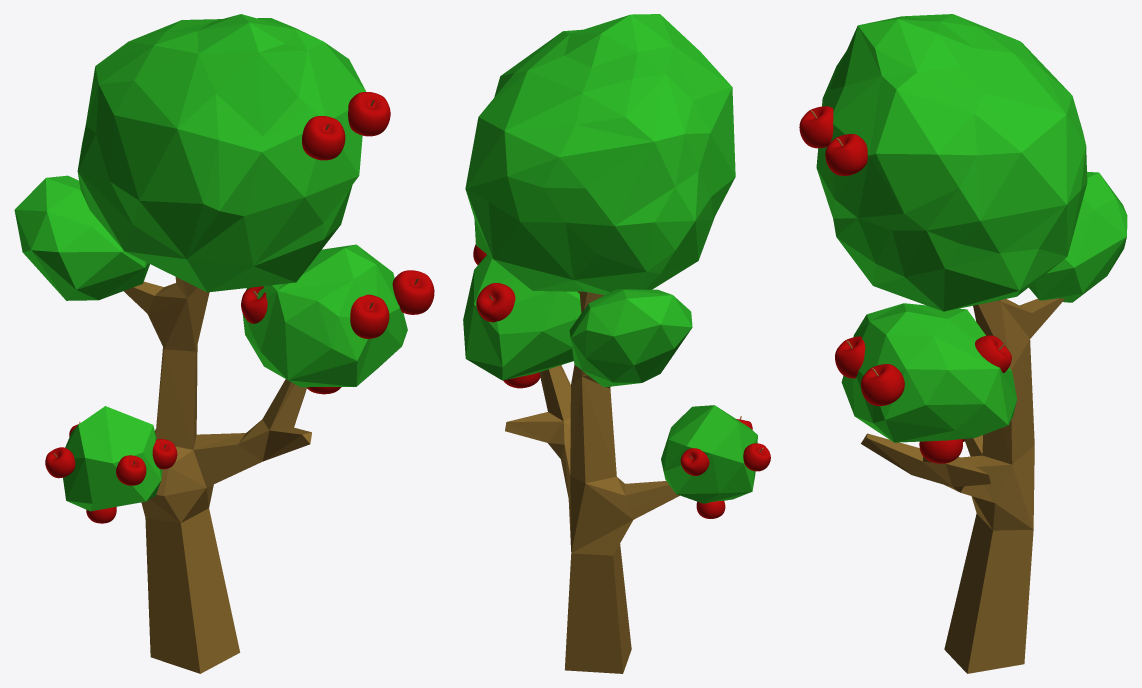
Rendered from arbol_de_manzana.glb.
3 renders of one model, left to right at view 1: azimuth 30°, elevation 25°; view 2: azimuth 150°, elevation 25°; view 3: azimuth 270°, elevation 25°, orthographic. The views are drawn at different scales.
Parts seen in each view (by area): view 1: pCylinder45; view 2: pCylinder45; view 3: pCylinder45.
Part boxes in pixels (<box>): pCylinder45: <box>14,14,434,673</box>; pCylinder45: <box>463,14,770,673</box>; pCylinder45: <box>799,14,1127,673</box>.
Size of the model in its own units: 0.5287 by 0.9554 by 0.4422.
